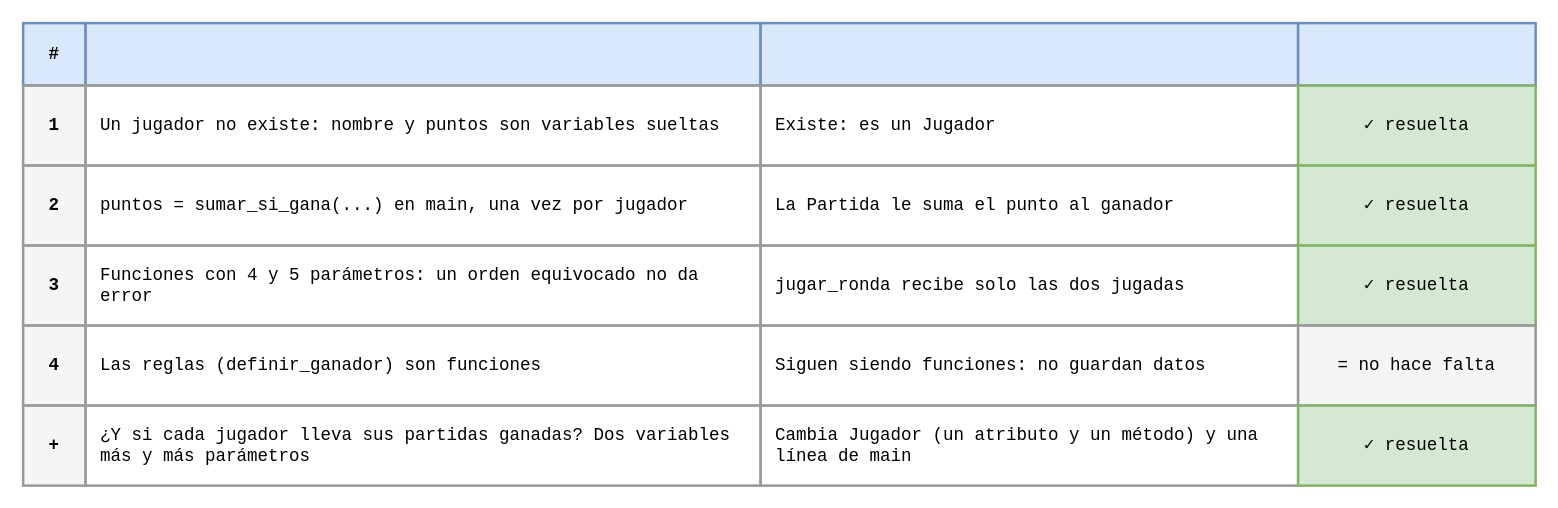
The diagram is 1558 pixels wide and 508 high, and some of its shapes have lost their labels. The centre of each missing label's shape, as x and y in pixels:
"Estado" goes at (1416,53).
"Versión estructurada" goes at (422,53).
"Versión POO" goes at (1029,53).
